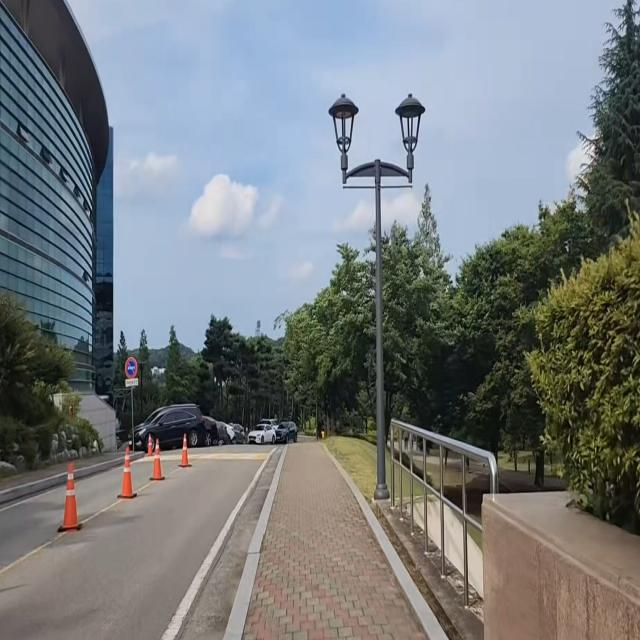obstacle: (329, 88, 432, 500), (53, 454, 86, 535), (113, 443, 140, 503), (149, 429, 167, 483)
road: (0, 452, 281, 640)
sidewalk: (223, 440, 450, 640), (0, 452, 132, 496)
